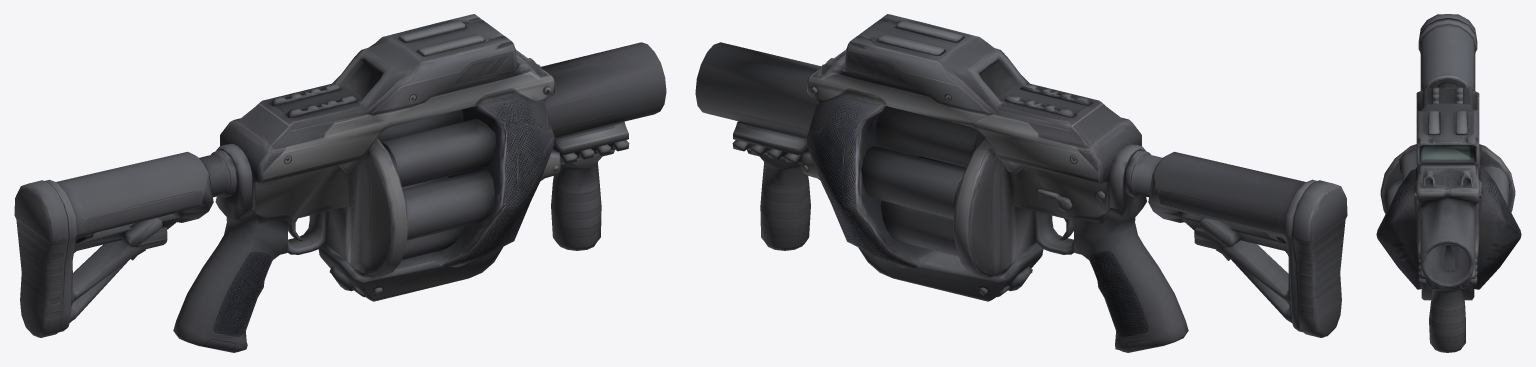
Rendered from ml70_mule.glb.
3 views of the same model, side by side, from view 1: azimuth 30°, elevation 25°; view 2: azimuth 150°, elevation 25°; view 3: azimuth 270°, elevation 25° (orthographic). The views are drawn at different scales.
Parts seen in each view (by area): view 1: ml70_mule; view 2: ml70_mule; view 3: ml70_mule.
Boxes of the visible parts, x1,y1,x2,y2 form: ml70_mule: (14, 14, 666, 352); ml70_mule: (695, 14, 1347, 352); ml70_mule: (1376, 14, 1521, 352).
Size of the model in its own units: 0.7 by 0.2808 by 0.1932.
Materials: 1 (1 with a texture image).
